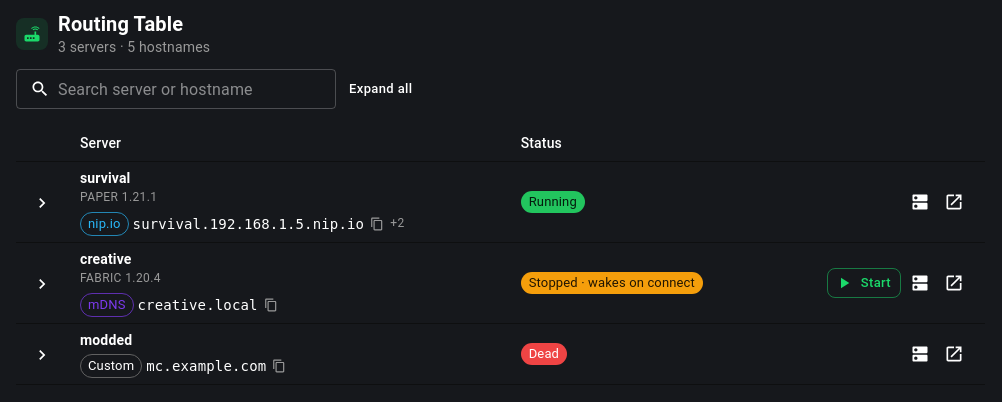
Test: RoutingTable › shows an empty state when nothing matches
Type "zzz" into the field named "Search routes" at (197, 89), box top-left (58, 69), bottom-right (336, 109)
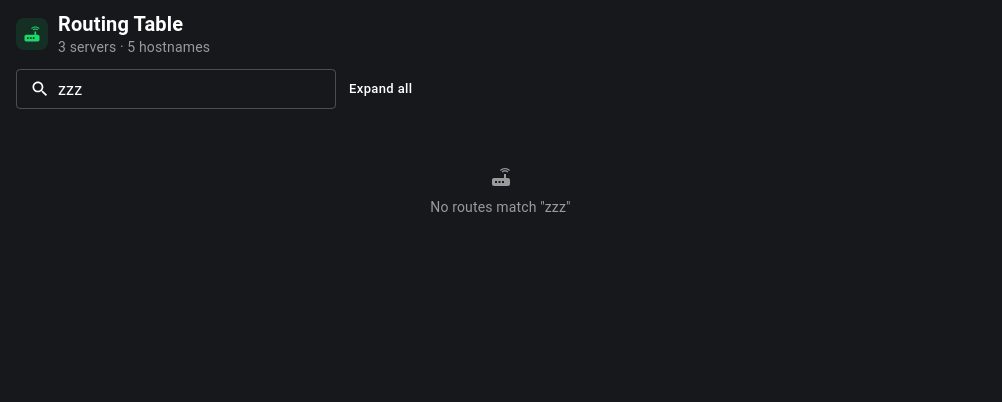
Expected: the text "No routes match \"zzz\"" is shown, top-left (430, 197), bottom-right (571, 217)
Expected: the table is gone
